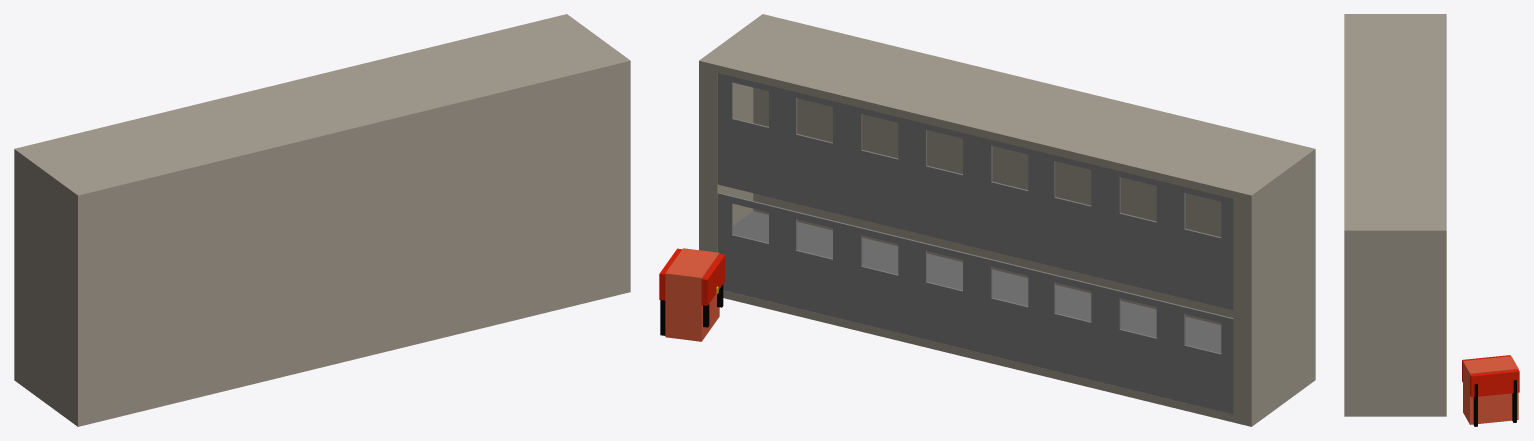
The model's file is Lockers.fbx.
3 renders of one model, left to right at view 1: azimuth 30°, elevation 25°; view 2: azimuth 150°, elevation 25°; view 3: azimuth 270°, elevation 25°, orthographic. The views are drawn at different scales.
Visible parts, largest first — view 1: Cube.039; view 2: Cube.052, Cube.039, Cube.041, Cube.044, Cube.046; view 3: Cube.039, Cube.044, Cube.046, Cube.048.
Boxes of the visible parts, x1,y1,x2,y2 form: Cube.039: (14,14,630,426); Cube.052: (717,73,1233,414); Cube.039: (699,14,1315,426); Cube.041: (733,211,1221,353); Cube.044: (665,248,719,341); Cube.046: (659,248,725,305); Cube.039: (1344,14,1446,416); Cube.044: (1463,356,1518,424); Cube.046: (1462,355,1519,397); Cube.048: (1473,380,1516,426).
Bounding box in the file's own units: 809 × 334 × 274.
